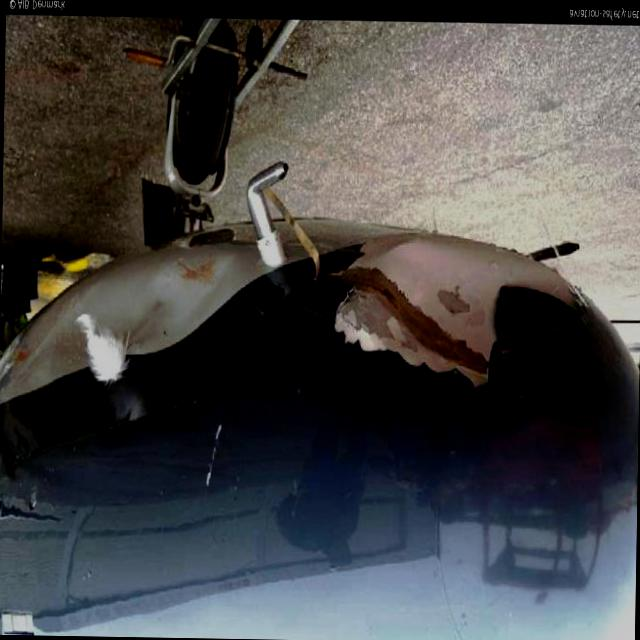crack: (474, 381, 530, 412)
dent: (132, 248, 238, 342)
